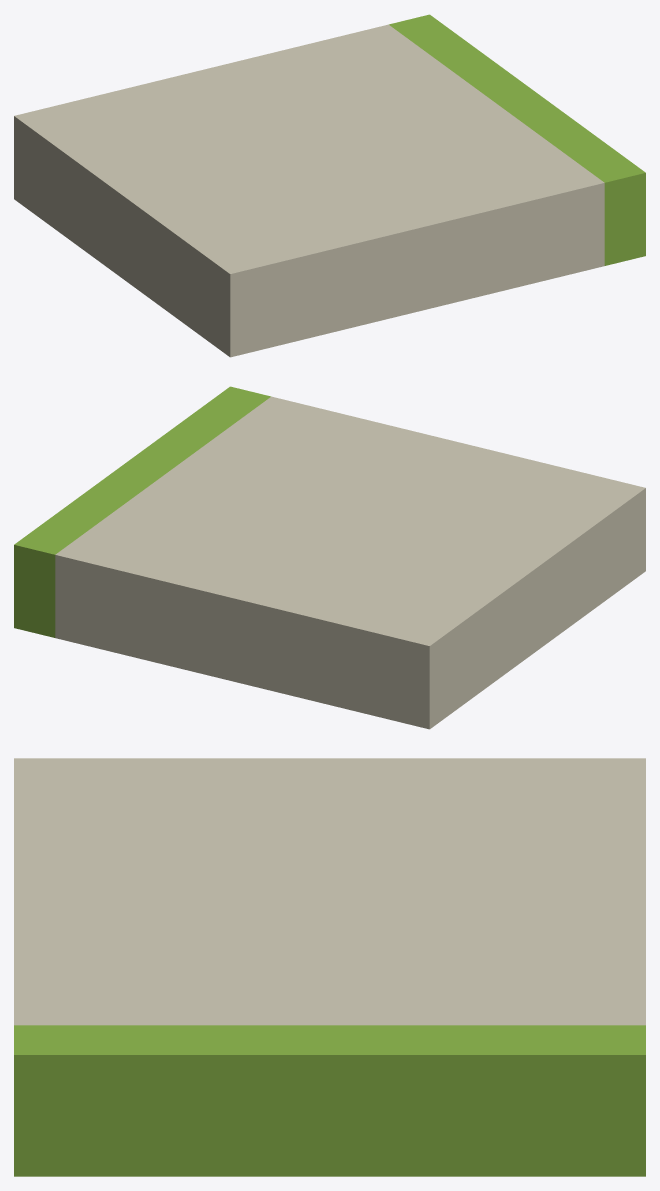
File: building_019.fbx
3 renders of one model, top to bottom at view 1: azimuth 30°, elevation 25°; view 2: azimuth 150°, elevation 25°; view 3: azimuth 270°, elevation 25°, orthographic. The views are drawn at different scales.
Parts seen in each view (by area): view 1: building_019; view 2: building_019; view 3: building_019.
Boxes of the visible parts, x1,y1,x2,y2 form: building_019: [14, 14, 645, 357]; building_019: [14, 386, 645, 729]; building_019: [14, 758, 645, 1176].
Bounding box in the file's own units: 11.1 × 2.12 × 10.
